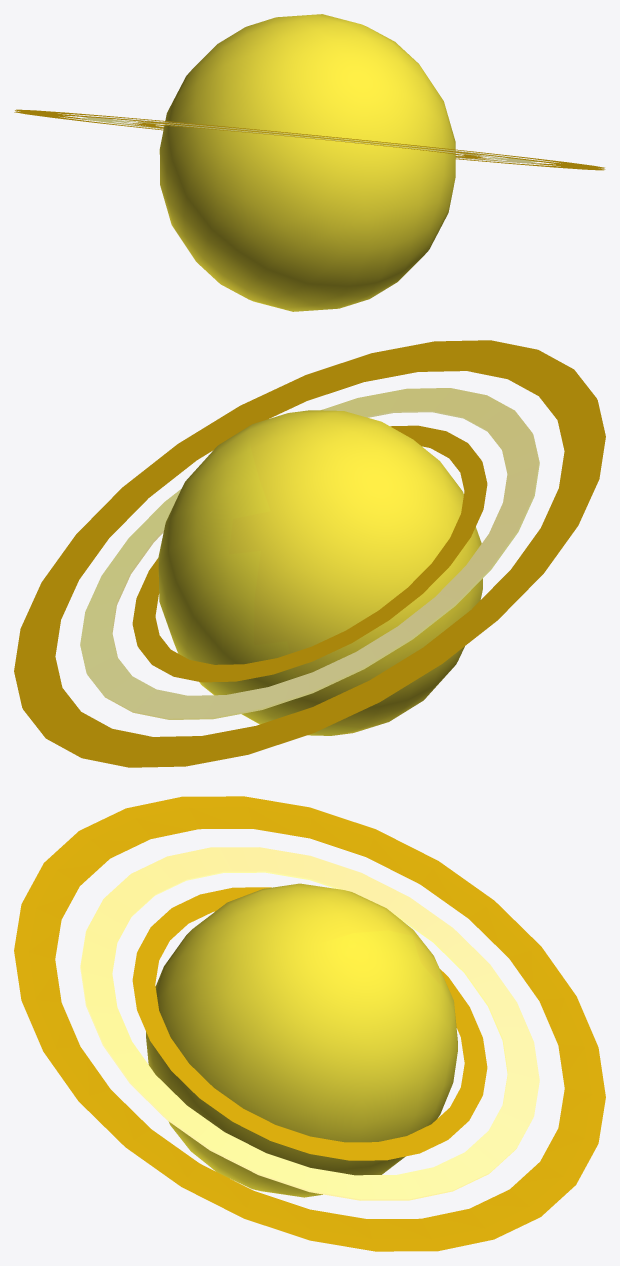
The model's file is Saturn.obj.
3 renders of one model, top to bottom at view 1: azimuth 30°, elevation 25°; view 2: azimuth 150°, elevation 25°; view 3: azimuth 270°, elevation 25°, orthographic. The views are drawn at different scales.
Visible parts, largest first — view 1: Saturn; view 2: Saturn; view 3: Saturn.
Part boxes in pixels (box(x1,y1,x2,y2)): Saturn: box(14, 14, 605, 311); Saturn: box(14, 340, 605, 767); Saturn: box(14, 796, 605, 1251).
Bounding box in the file's own units: 31.95 × 17.11 × 31.87.
